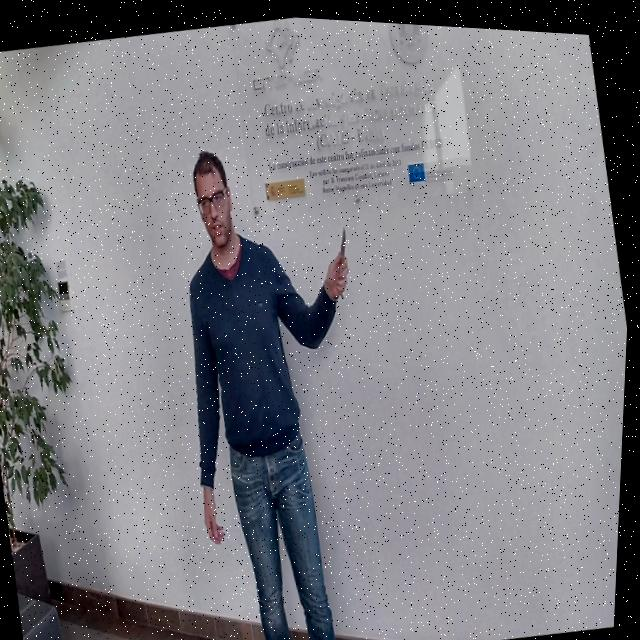knife: (333, 221, 355, 268)
